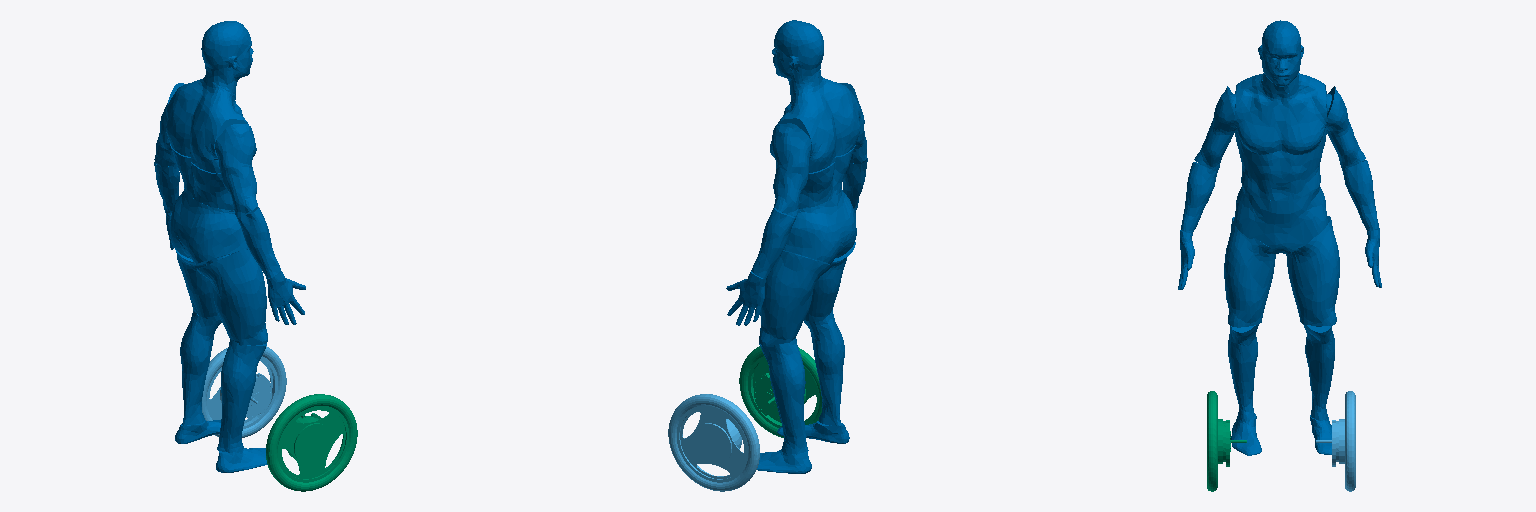
robot.urdf — qolo:
<?xml version="1.0" ?>
<!-- =================================================================================== -->
<!-- |    This document was autogenerated by xacro from xarco/qolo_with_rider.urdf.xarco | -->
<!-- |    EDITING THIS FILE BY HAND IS NOT RECOMMENDED                                 | -->
<!-- =================================================================================== -->
<robot name="qolo" xmlns:xacro="https://www.ros.org/wiki/xacro">
  <link name="qolo_main">
    <inertial>
      <origin rpy="0 0 0" xyz="-0.160 0 0.184"/>
      <mass value="50"/>
      <inertia ixx="22.23722770713" ixy="-0.04006835911" ixz="-0.02300035044" iyy="17.58011380849" iyz="-0.02387139307" izz="28.82981259528"/>
    </inertial>
    <visual>
      <geometry>
        <mesh filename="stl/qolo_main.stl" scale="1 1 1"/>
      </geometry>
      <origin rpy="0 0 0" xyz="0 0 0"/>
    </visual>
    <collision>
      <geometry>
        <mesh filename="stl/qolo_main.stl" scale="1 1 1"/>
      </geometry>
      <origin rpy="0 0 0" xyz="0 0 0"/>
    </collision>
  </link>
  <link name="wheel_right">
    <inertial>
      <origin rpy="0 0 0" xyz="0 0 0"/>
      <mass value="1.5"/>
      <inertia ixx="5.0001" ixy="0" ixz="0" iyy="1.0001" iyz="0" izz="5.0001"/>
    </inertial>
    <visual>
      <geometry>
        <mesh filename="stl/qolo_wheel.stl" scale="1 1 1"/>
      </geometry>
      <origin rpy="1.57079632679 0 0" xyz="0 0 0"/>
    </visual>
    <collision>
      <geometry>
        <mesh filename="stl/qolo_wheel.stl" scale="1 1 1"/>
      </geometry>
      <origin rpy="1.57079632679 0 0" xyz="0 0 0"/>
    </collision>
  </link>
  <joint name="qolo_main_to_wheel_right" type="continuous">
    <parent link="qolo_main"/>
    <child link="wheel_right"/>
    <origin xyz="0 0.2 0"/>
    <axis xyz="0 1 0"/>
  </joint>
  <link name="wheel_left">
    <inertial>
      <origin rpy="0 0 0" xyz="0 0 0"/>
      <mass value="1.5"/>
      <inertia ixx="5.0001" ixy="0" ixz="0" iyy="1.0001" iyz="0" izz="5.0001"/>
    </inertial>
    <visual>
      <geometry>
        <mesh filename="stl/qolo_wheel.stl" scale="1 1 1"/>
      </geometry>
      <origin rpy="-1.57079632679 0 0" xyz="0 0 0"/>
    </visual>
    <collision>
      <geometry>
        <mesh filename="stl/qolo_wheel.stl" scale="1 1 1"/>
      </geometry>
      <origin rpy="-1.57079632679 0 0" xyz="0 0 0"/>
    </collision>
  </link>
  <joint name="qolo_main_to_wheel_left" type="continuous">
    <parent link="qolo_main"/>
    <child link="wheel_left"/>
    <origin xyz="0 -0.2 0"/>
    <axis xyz="0 1 0"/>
  </joint>
  <link name="bumper">
    <inertial>
      <origin rpy="0 0 0" xyz="0 0 0"/>
      <mass value="1.5"/>
      <inertia ixx="0.02155077848" ixy="0.00000859993" ixz="0.00000332812" iyy="0.03332543416" iyz="0.00575422413" izz="0.04216038950"/>
    </inertial>
    <visual>
      <geometry>
        <mesh filename="stl/bumper.stl" scale="1 1 1"/>
      </geometry>
      <origin rpy="0 0 1.57079632679" xyz="0 0 0"/>
    </visual>
    <collision>
      <geometry>
        <mesh filename="stl/bumper.stl" scale="1 1 1"/>
      </geometry>
      <origin rpy="0 0 1.57079632679" xyz="0 0 0"/>
    </collision>
  </link>
  <joint name="qolo_main_to_bumper" type="fixed">
    <parent link="qolo_main"/>
    <child link="bumper"/>
    <origin xyz="0.035 0 0.015"/>
    <axis xyz="1 0 0"/>
  </joint>
  <link name="rider">
    <inertial>
      <origin rpy="0 0 0" xyz="0 0 0"/>
      <mass value="72"/>
      <inertia ixx="5.0001" ixy="0" ixz="0" iyy="1.0001" iyz="0" izz="5.0001"/>
    </inertial>
    <visual>
      <geometry>
        <mesh filename="stl/rider.stl" scale="1 1 1"/>
      </geometry>
      <origin rpy="0 0 0" xyz="0 0 0"/>
    </visual>
    <collision>
      <geometry>
        <mesh filename="stl/rider.stl" scale="1 1 1"/>
      </geometry>
      <origin rpy="0 0 0" xyz="0 0 0"/>
    </collision>
  </link>
  <joint name="qolo_main_to_rider" type="fixed">
    <parent link="qolo_main"/>
    <child link="rider"/>
    <origin xyz="0 0 0"/>
    <axis xyz="1 0 0"/>
  </joint>
</robot>

--- Facts derived from the render (not from the file) ---
Views: 3 orthographic renders of the robot side by side, from view 1: azimuth 30°, elevation 25°; view 2: azimuth 150°, elevation 25°; view 3: azimuth 270°, elevation 25°.
Robot: qolo — 5 links, 4 joints (2 continuous, 2 fixed); root link qolo_main; default pose: every joint at zero.
Links seen in each view (by area): view 1: rider, wheel_left, wheel_right; view 2: rider, wheel_right, wheel_left; view 3: rider, wheel_right, wheel_left.
Link boxes in pixels (<box>): rider: <box>154,21,305,472</box>; wheel_left: <box>266,394,357,491</box>; wheel_right: <box>202,346,286,438</box>; rider: <box>726,20,867,473</box>; wheel_right: <box>668,394,759,491</box>; wheel_left: <box>739,346,821,437</box>; rider: <box>1178,20,1381,455</box>; wheel_right: <box>1316,391,1355,491</box>; wheel_left: <box>1207,391,1246,491</box>.
Size in the robot's own frame: 0.6238 by 0.8149 by 1.93 metres.
Meshes: 4 distinct files referenced, 3 mesh visuals loaded (2 binary STL); not drawn: 2 (reference not matched to a file when rendering).